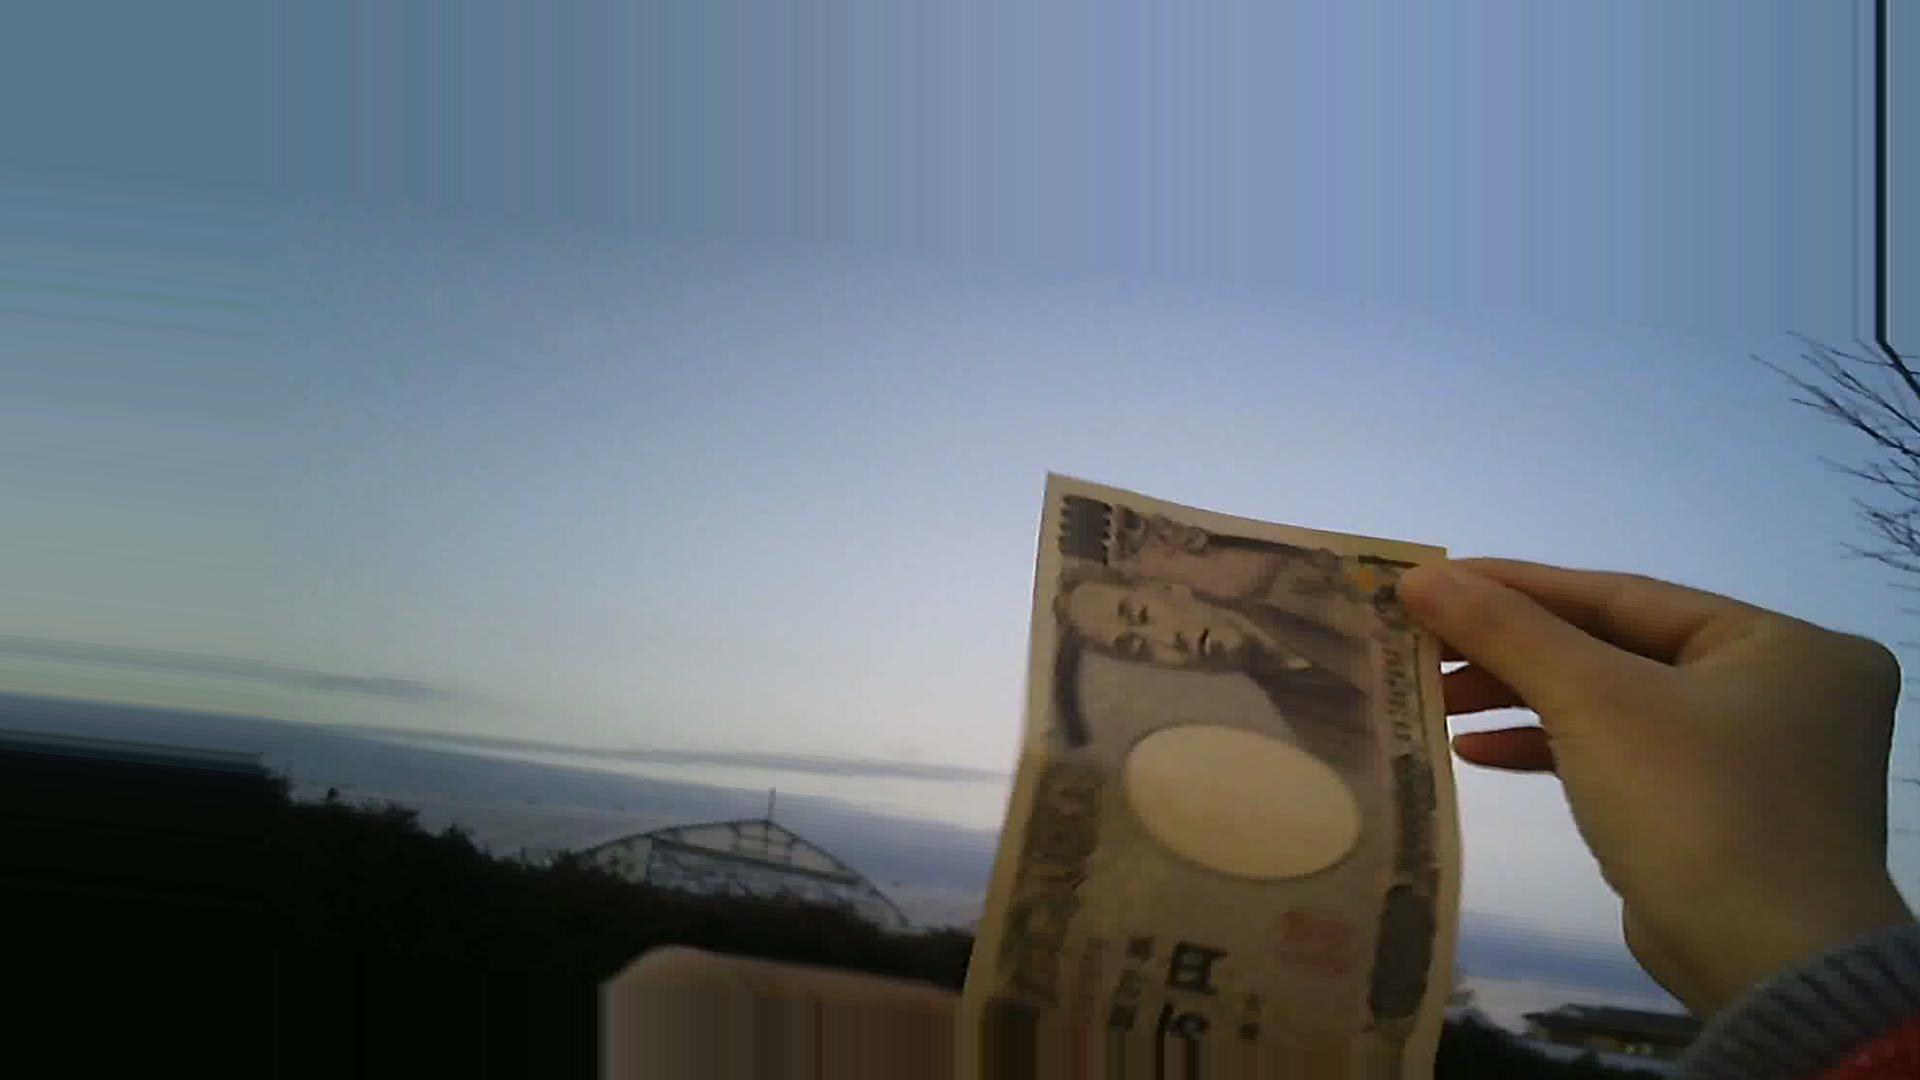10,000 Yen: (975, 451, 1458, 1079)
